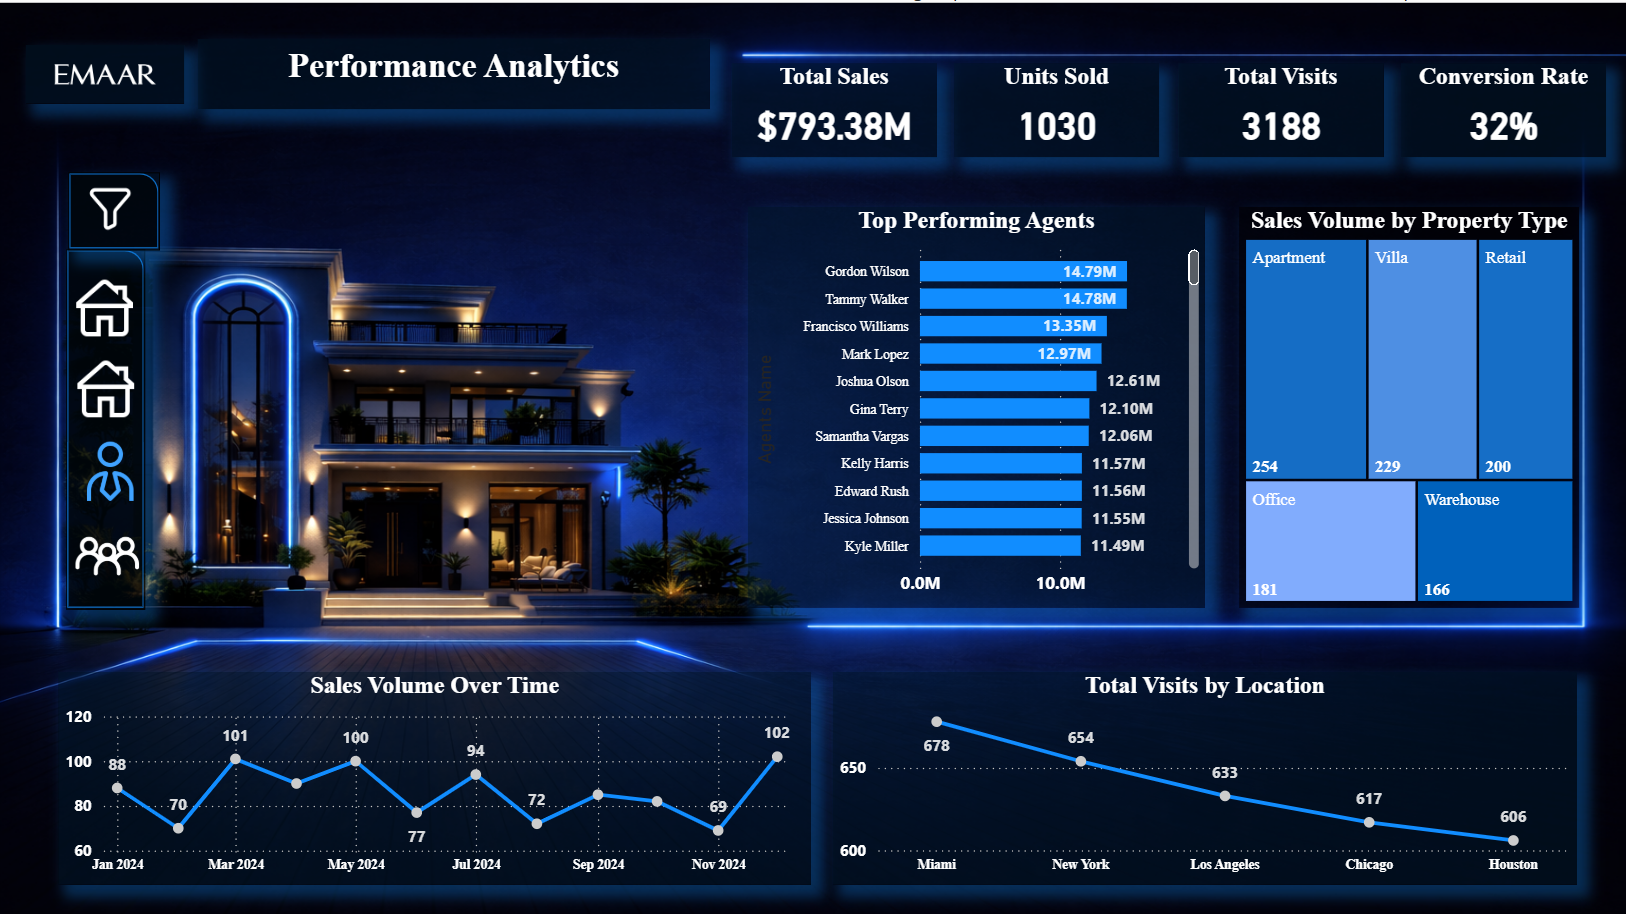

The page's visual inventory and layout, read from the dashboard file:
{"tool":"powerbi","page":{"name":"Performance Analytics","canvas":[1280,720],"ordinal":2},"visuals":[{"type":"card","title":"Total Sales","fields":{"Values":["_All_Measures.Total Sales"]},"box":[575.1,47.9,161,74],"z":0},{"type":"card","title":"Units Sold","fields":{"Values":["_All_Measures.Units Sold"]},"box":[750.9,47.9,161,74],"z":1000},{"type":"card","title":"Total Visits","fields":{"Values":["_All_Measures.Total Visits"]},"box":[926.6,47.9,161,74],"z":2000},{"type":"card","title":"Conversion Rate","fields":{"Values":["_All_Measures.Conversion Rate"]},"box":[1102.4,47.9,161,74],"z":3000},{"type":"lineChart","title":"Sales Volume Over Time","fields":{"Category":["Dim_Date.Date.Variation.Date Hierarchy.Year","Dim_Date.Date.Variation.Date Hierarchy.Month"],"Y":["_All_Measures.Units Sold"]},"box":[46.9,526.6,592.2,167.2],"z":4000},{"type":"treemap","title":"Sales Volume by Property Type","fields":{"Group":["Properties.PropertyType"],"Values":["_All_Measures.Units Sold"]},"box":[974.8,160,267.2,315.1],"z":5000},{"type":"clusteredBarChart","title":"Top Performing Agents","fields":{"Category":["Agents.Agents Name"],"Y":["_All_Measures.Conversion Rate"]},"box":[588.9,160,359.6,315.1],"z":6000},{"type":"lineChart","fields":{"Category":["Properties.Location"],"Y":["_All_Measures.Total Visits"]},"box":[655.3,526.5,585.3,167],"z":7000},{"type":"shape","box":[53,194.8,62.2,283.3],"z":8000},{"type":"image","box":[50.7,217.8,63.3,44.4],"z":9000},{"type":"image","box":[53,281.1,62.2,44.4],"z":10000},{"type":"image","box":[55.2,342.2,62.2,53.3],"z":11000},{"type":"image","box":[55.2,410,57.8,50],"z":12000},{"type":"shape","box":[54.4,133.3,72.2,61.1],"z":13000},{"type":"image","title":"فلتر الغلق","box":[56,140,62,44],"z":16000},{"type":"image","box":[20.2,33,124.8,45.9],"z":17000},{"type":"textbox","box":[156,29.2,402.4,55.4],"z":18000}]}

Visuals, with their boxes in screenshot pixels (x1, y1, x2, y2), scaled from the page's 1280x720 canvas onto the 1626x914 screenshot:
"Total Sales" card: select_region(731, 61, 935, 155)
"Units Sold" card: select_region(954, 61, 1158, 155)
"Total Visits" card: select_region(1177, 61, 1382, 155)
"Conversion Rate" card: select_region(1400, 61, 1605, 155)
"Sales Volume Over Time" lineChart: select_region(60, 668, 812, 881)
"Sales Volume by Property Type" treemap: select_region(1238, 203, 1578, 603)
"Top Performing Agents" clusteredBarChart: select_region(748, 203, 1205, 603)
lineChart - Properties.Location x _All_Measures.Total Visits: select_region(832, 668, 1576, 880)
shape: select_region(67, 247, 146, 607)
image: select_region(64, 276, 145, 333)
image: select_region(67, 357, 146, 413)
image: select_region(70, 434, 149, 502)
image: select_region(70, 520, 144, 584)
shape: select_region(69, 169, 161, 247)
"فلتر الغلق" image: select_region(71, 178, 150, 234)
image: select_region(26, 42, 184, 100)
textbox: select_region(198, 37, 709, 107)
